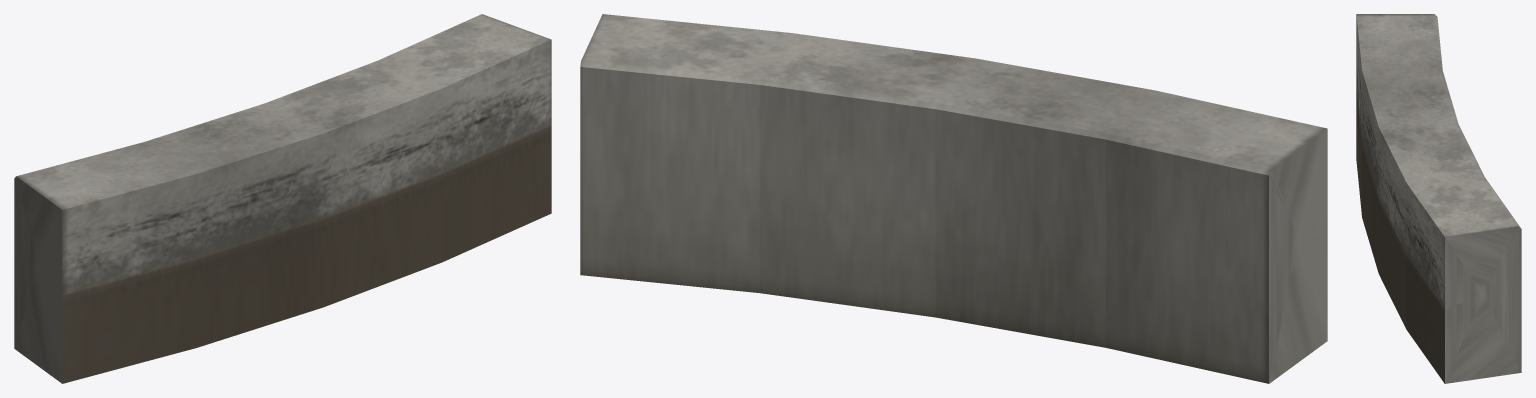
The model's file is curb_curve_r3_lod2_web.glb.
The picture shows the model from 3 angles, left to right: view 1: azimuth 30°, elevation 25°; view 2: azimuth 150°, elevation 25°; view 3: azimuth 270°, elevation 25°; orthographic projection. The views are drawn at different scales.
Parts seen in each view (by area): view 1: curb_curve_r3_Mesh; view 2: curb_curve_r3_Mesh; view 3: curb_curve_r3_Mesh.
Boxes of the visible parts, <box> form: curb_curve_r3_Mesh: <box>14,14,551,383</box>; curb_curve_r3_Mesh: <box>580,14,1327,383</box>; curb_curve_r3_Mesh: <box>1356,14,1521,383</box>.
Bounding box in the file's own units: 0.9769 × 0.3 × 0.3053.
Materials: 1 (1 with a texture image).
